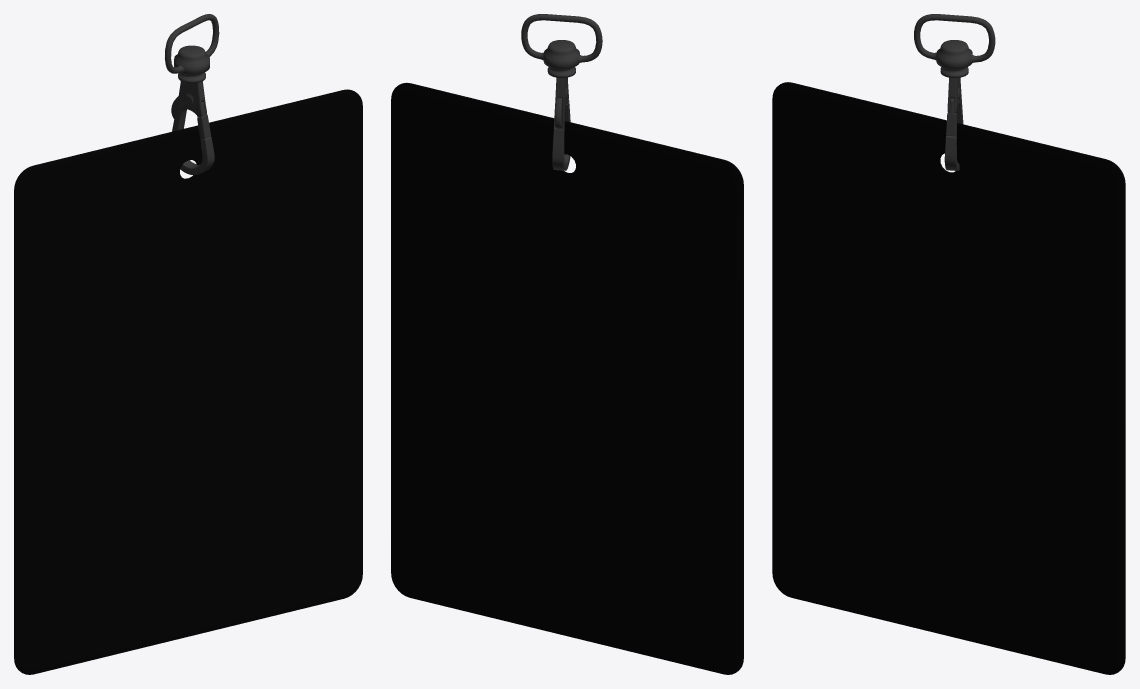
Rendered from BlankIDcard.glb.
The picture shows the model from 3 angles, left to right: view 1: azimuth 30°, elevation 25°; view 2: azimuth 150°, elevation 25°; view 3: azimuth 330°, elevation 25°; orthographic projection.
Visible parts, largest first — view 1: card, clamp, clip; view 2: card, clip, clamp; view 3: card, clip, clamp.
Part boxes in pixels (box(x1,y1,x2,y2)): card: box(14, 89, 362, 674); clamp: box(171, 81, 214, 175); clip: box(165, 14, 219, 83); card: box(391, 82, 743, 674); clip: box(521, 14, 602, 77); clamp: box(552, 77, 570, 170); card: box(772, 82, 1125, 674); clip: box(914, 14, 995, 77); clamp: box(944, 77, 963, 170).
Size of the model in its own units: 0.7164 by 1.21 by 0.0903.
2 materials, 1 textured.
